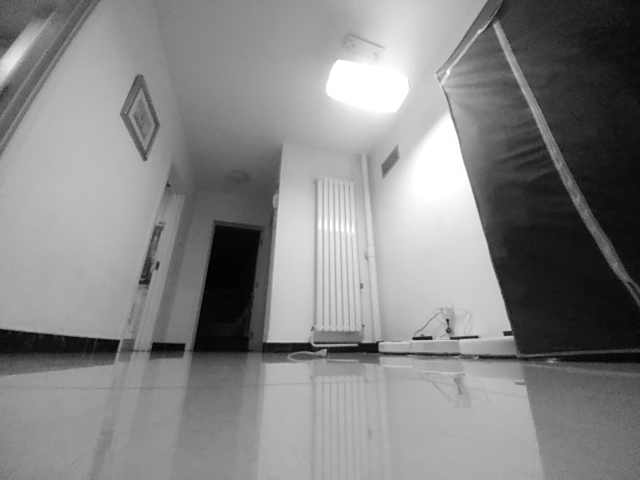others: (287, 347, 328, 360)
